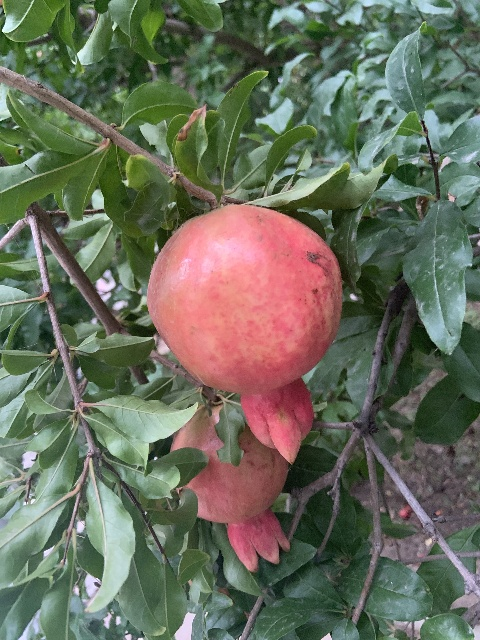ripe: (146, 203, 342, 464), (170, 402, 294, 571)
